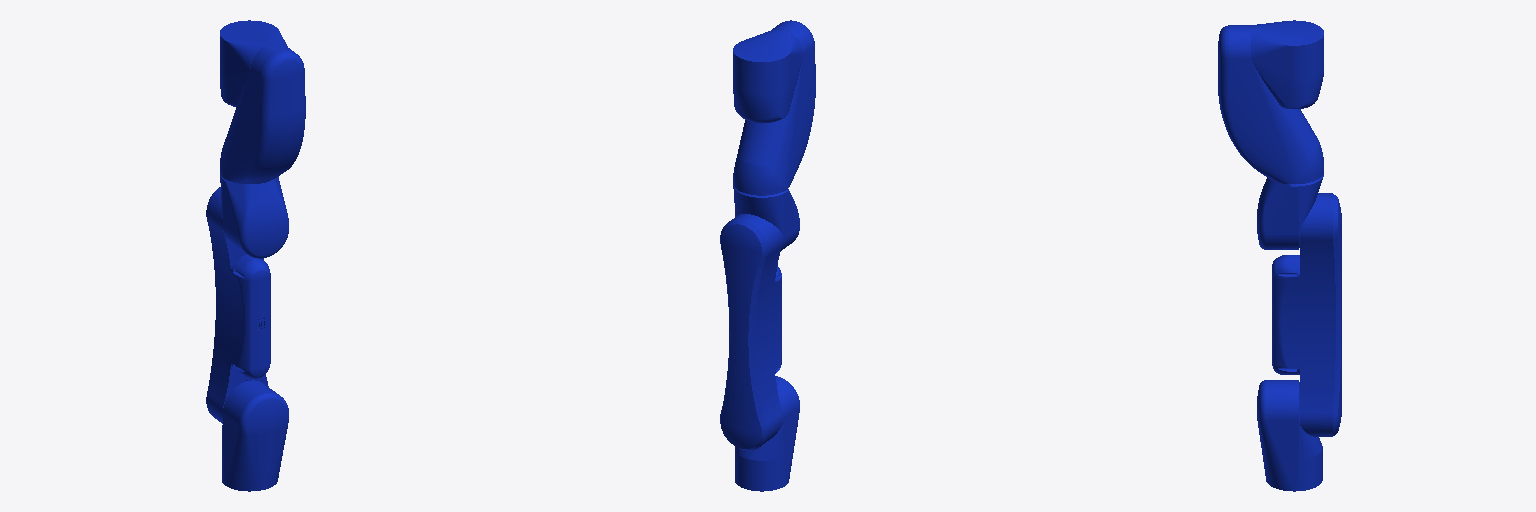
The robot description file, URDF, robot "inail2arm":
<?xml version="1.0" ?>
<!-- =================================================================================== -->
<!-- |    This document was autogenerated by xacro from [local-path]/TelePhysicalOperation/robots/src/iit-inail2arm-ros-pkg/inail2arm_urdf/urdf/inail2arm_robot.urdf.xacro | -->
<!-- |    EDITING THIS FILE BY HAND IS NOT RECOMMENDED                                 | -->
<!-- =================================================================================== -->
<robot name="inail2arm">
    <material name="grey">
        <color rgba="0.5 0.5 0.5 1" />
    </material>
    <material name="dark_grey">
        <color rgba="0.3 0.3 0.3 1" />
    </material>
    <material name="red">
        <color rgba="1.0 0.0 0.0 1" />
    </material>
    <material name="green">
        <color rgba="0.0 1.0 0.0 1" />
    </material>
    <material name="blue">
        <color rgba="0.13333333333333333 0.25882352941176473 0.7803921568627451 1.0" />
    </material>
    <!-- /macro arms -->
    <!-- /macro ee -->
    <!-- Origin -->
    <link name="world" />
    <!-- base -->
    <link name="base_link">
        <inertial>
            <origin xyz="0.00020548930000000002 -0.00062095789 0.077352002" rpy="0 0 0" />
            <mass value="2.7764953" />
            <inertia ixx="0.010002127" ixy="4.1468013999999995e-05" ixz="-5.1253649e-05" iyy="0.010728527" iyz="-0.00012700723" izz="0.006215603699999999" />
        </inertial>
        <visual>
            <origin rpy="0.0 0.0 0.0" xyz="0.0 0.0 0.0" />
            <geometry>
                <mesh filename="package://inail2arm_urdf/meshes/mesh_base.stl" scale="0.001 0.001 0.001" />
            </geometry>
            <material name="dark_grey" />
        </visual>
        <collision>
            <origin rpy="0.0 0.0 0.0" xyz="0.0 0.0 0.0" />
            <geometry>
                <mesh filename="package://inail2arm_urdf/meshes/simple/mesh_base.stl" scale="0.001 0.001 0.001" />
            </geometry>
        </collision>
    </link>
    <!-- base -->
    <joint name="base_joint" type="fixed">
        <parent link="world" />
        <child link="base_link" />
        <origin rpy="0 0 0" xyz="0 0 0" />
    </joint>
    <!-- LINKS -->
    <!-- shoulder yaw-->
    <link name="arm1_1">
        <inertial>
            <origin xyz="8.4798664e-05 -0.020782662 0.032183554999999996" rpy="0 0 0" />
            <mass value="0.41054046" />
            <inertia ixx="0.0012949444" ixy="-1.8773371e-06" ixz="1.2479427999999998e-06" iyy="0.0012303834999999998" iyz="0.00032390228999999997" izz="0.0008036788199999999" />
        </inertial>
        <visual>
            <origin rpy="0.0 0.0 0.0" xyz="0.0 0.0 0.0" />
            <geometry>
                <mesh filename="package://inail2arm_urdf/meshes/mesh_shoulder-yaw.stl" scale="0.001 0.001 0.001" />
            </geometry>
            <material name="blue" />
        </visual>
        <collision>
            <origin rpy="0.0 0.0 0.0" xyz="0.0 0.0 0.0" />
            <geometry>
                <mesh filename="package://inail2arm_urdf/meshes/simple/mesh_shoulder-yaw.stl" scale="0.001 0.001 0.001" />
            </geometry>
        </collision>
    </link>
    <!-- shoulder yaw-->
    <!-- shoulder pitch-->
    <link name="arm1_2">
        <inertial>
            <origin xyz="-3.636067e-05 0.16072685 -0.062849027" rpy="0 0 0" />
            <mass value="3.2487988" />
            <inertia ixx="0.090371217" ixy="9.791527499999999e-05" ixz="-5.558155099999999e-06" iyy="0.0065574254" iyz="-0.0029068254" izz="0.088276594" />
        </inertial>
        <visual>
            <origin rpy="0.0 0.0 0.0" xyz="0.0 0.0 0.0" />
            <geometry>
                <mesh filename="package://inail2arm_urdf/meshes/mesh_shoulder-pitch.stl" scale="0.001 0.001 0.001" />
            </geometry>
            <material name="blue" />
        </visual>
        <collision>
            <origin rpy="0.0 0.0 0.0" xyz="0.0 0.0 0.0" />
            <geometry>
                <mesh filename="package://inail2arm_urdf/meshes/simple/mesh_shoulder-pitch.stl" scale="0.001 0.001 0.001" />
            </geometry>
        </collision>
    </link>
    <!-- shoulder pitch-->
    <!-- elbow-yaw-->
    <link name="arm1_3">
        <inertial>
            <origin xyz="-1.2974906e-05 0.064319293 -0.03429615" rpy="0 0 0" />
            <mass value="0.52461209" />
            <inertia ixx="0.0015799731999999998" ixy="3.0297811e-07" ixz="4.1461879e-07" iyy="0.0010025017999999999" iyz="0.00038387214" izz="0.0014999643" />
        </inertial>
        <visual>
            <origin rpy="0.0 0.0 0.0" xyz="0.0 0.0 0.0" />
            <geometry>
                <mesh filename="package://inail2arm_urdf/meshes/mesh_elbow.stl" scale="0.001 0.001 0.001" />
            </geometry>
            <material name="blue" />
        </visual>
        <collision>
            <origin rpy="0.0 0.0 0.0" xyz="0.0 0.0 0.0" />
            <geometry>
                <mesh filename="package://inail2arm_urdf/meshes/simple/mesh_elbow.stl" scale="0.001 0.001 0.001" />
            </geometry>
        </collision>
    </link>
    <!-- elbow-yaw-->
    <!-- forearm-yaw -->
    <link name="arm1_4">
        <inertial>
            <origin xyz="-6.452875299999999e-05 -0.046448856999999996 0.13357443000000002" rpy="0 0 0" />
            <mass value="2.0046544" />
            <inertia ixx="0.023326476999999998" ixy="-1.7237335e-05" ixz="-2.9785178999999997e-05" iyy="0.02013323" iyz="0.006970601399999999" izz="0.0052212805" />
        </inertial>
        <visual>
            <origin rpy="0.0 0.0 0.0" xyz="0.0 0.0 0.0" />
            <geometry>
                <mesh filename="package://inail2arm_urdf/meshes/mesh_forearm-yaw.stl" scale="0.001 0.001 0.001" />
            </geometry>
            <material name="blue" />
        </visual>
        <collision>
            <origin rpy="0.0 0.0 0.0" xyz="0.0 0.0 0.0" />
            <geometry>
                <mesh filename="package://inail2arm_urdf/meshes/simple/mesh_forearm-yaw.stl" scale="0.001 0.001 0.001" />
            </geometry>
        </collision>
    </link>
    <!-- forearm-yaw -->
    <!--wrist-pitch -->
    <link name="arm1_5">
        <inertial>
            <origin xyz="-4.7450211e-05 0.017403047999999997 0.040478983999999996" rpy="0 0 0" />
            <mass value="1.0418416" />
            <inertia ixx="0.0018450264" ixy="-6.3813838e-07" ixz="1.6212593e-05" iyy="0.0011114155" iyz="-3.7623514e-05" izz="0.0018417393" />
        </inertial>
        <visual>
            <origin rpy="0.0 0.0 0.0" xyz="0.0 0.0 0.0" />
            <geometry>
                <mesh filename="package://inail2arm_urdf/meshes/mesh_wrist-pitch.stl" scale="0.001                0.001 0.001" />
            </geometry>
            <material name="blue" />
        </visual>
        <collision>
            <origin rpy="0.0 0.0 0.0" xyz="0.0 0.0 0.0" />
            <geometry>
                <mesh filename="package://inail2arm_urdf/meshes/simple/mesh_wrist-pitch.stl" scale="0.001                0.001 0.001" />
            </geometry>
        </collision>
    </link>
    <link name="arm1_6">
        <inertial>
            <origin xyz="0 0 0" />
            <mass value="0.001" />
            <inertia ixx="0.0001" ixy="0" ixz="0" iyy="0.0001" iyz="0" izz="0.0001" />
        </inertial>
        <!-- <visual>
            <origin xyz="0.0 0.0 0.0" rpy="0.0 0.0 0.0" />
            <geometry>
               <mesh
                  filename="package://inail2arm_urdf/meshes/mesh_wrist-pitch.stl"
                  scale="0.001
               ${rot*0.001} 0.001" />
            </geometry>
            <material name="blue" />
         </visual>

         <collision>
            <origin xyz="0.0 0.0 0.0" rpy="0.0 0.0 0.0" />
            <geometry>
               <mesh
                  filename="package://inail2arm_urdf/meshes/simple/mesh_wrist-pitch.stl"
                  scale="0.001
               ${rot*0.001} 0.001" />
            </geometry>
         </collision> -->
    </link>
    <!--wrist-pitch -->
    <!-- /LINKS -->
    <!-- JOINTS -->
    <!-- shoulder yaw -->
    <joint name="j_arm1_1" type="revolute">
        <parent link="base_link" />
        <child link="arm1_1" />
        <axis xyz="0 0 1" />
        <origin rpy="0.0 0.0 0.0" xyz="0.0 0.0 0.17515" />
        <limit effort="147.0" lower="-2.85" upper="2.85" velocity="3.86" />
    </joint>
    <!-- shoulder yaw -->
    <!-- shoulder pitch -->
    <joint name="j_arm1_2" type="revolute">
        <parent link="arm1_1" />
        <child link="arm1_2" />
        <origin rpy="1.570796326795 0.0 0.0" xyz="0.0 -0.051 0.079" />
        <axis xyz="0 0 -1" />
        <limit effort="147.0" lower="-2.0" upper="2.0" velocity="3.86" />
    </joint>
    <!-- shoulder pitch -->
    <!-- elbow yaw -->
    <joint name="j_arm1_3" type="revolute">
        <parent link="arm1_2" />
        <child link="arm1_3" />
        <origin rpy="0.0 0.0 0.0" xyz="0.0 0.365095 0.0" />
        <axis xyz="0 0 1" />
        <limit effort="147.0" lower="-2.2" upper="2.2" velocity="6.06" />
    </joint>
    <!-- elbow yaw -->
    <!-- forearm yaw -->
    <joint name="j_arm1_4" type="revolute">
        <parent link="arm1_3" />
        <child link="arm1_4" />
        <origin rpy="-1.570796326795 0.0 0.0" xyz="0.0 0.0825 -0.051" />
        <axis xyz="0 0 1" />
        <limit effort="147.0" lower="-2.7" upper="2.7" velocity="6.06" />
    </joint>
    <!-- forearm yaw -->
    <!-- wrist pitch-->
    <joint name="j_arm1_5" type="revolute">
        <parent link="arm1_4" />
        <child link="arm1_5" />
        <origin rpy="-1.570796326795 0.0 0.0" xyz="0.0 -0.043 0.2525" />
        <axis xyz="0 0 1" />
        <limit effort="55.0" lower="-2.2" upper="2.2" velocity="11.72" />
    </joint>
    <!-- wrist pitch-->
    <!-- wrist2 pitch-->
    <joint name="j_arm1_6" type="revolute">
        <parent link="arm1_5" />
        <child link="arm1_6" />
        <origin rpy="0 0.0 0.0" xyz="0.0 -0.02 0.043" />
        <axis xyz="0 1 0" />
        <limit effort="55.0" lower="-2.85" upper="2.85" velocity="11.72" />
    </joint>
    <!-- /wrist2 pitch-->
    <joint name="dagana_1_mount_joint" type="fixed">
        <origin rpy="1.570796326795 0 0" xyz="0 -0.018 0" />
        <parent link="arm1_6" />
        <child link="dagana_1_top_link" />
    </joint>
    <link name="dagana_1_top_link">
        <inertial>
            <origin rpy="0 0 0" xyz="-0.0063562154 -0.0060265532000000005  0.060068288000000004" />
            <mass value="1.7432400" />
            <inertia ixx="0.0050510328" ixy="-0.00025264216" ixz="-0.00012103013" iyy="0.0047944612" iyz="-0.00073917704" izz="0.0031156997" />
        </inertial>
        <visual>
            <origin rpy="0 0 0" xyz="0 0 0" />
            <geometry>
                <mesh filename="package://dagana_urdf/meshes/dg0001-simplified.stl" scale="0.001 0.001 0.001" />
            </geometry>
            <material name="dark_grey" />
        </visual>
        <collision>
            <origin rpy="0 0 0" xyz="0 0 0" />
            <geometry>
                <mesh filename="package://dagana_urdf/meshes/dg0001-ch.stl" scale="0.001 0.001 0.001" />
            </geometry>
            <material name="dark_grey" />
        </collision>
    </link>
    <joint name="dagana_1_claw_joint" type="fixed">
        <origin rpy="1.57079632679 0 3.14159265359" xyz="0.0 -0.028 0.05025" />
        <parent link="dagana_1_top_link" />
        <child link="dagana_1_bottom_link" />
        <axis xyz="-1 0 0" />
        <limit effort="1000" lower="0" upper="1" velocity="2.0" />
    </joint>
    <link name="dagana_1_bottom_link">
        <inertial>
            <origin rpy="0 0 0" xyz="0.069644767 0.0026548329 -0.041960263" />
            <mass value="4.6117745e-01" />
            <inertia ixx="0.0009385556899999999" ixy="-0.000264452" ixz="7.134683e-05" iyy="0.0019472731" iyz="2.529065e-06" izz="0.0014726990999999999" />
        </inertial>
        <visual>
            <origin rpy="0 0 0" xyz="0 0 0" />
            <geometry>
                <mesh filename="package://dagana_urdf/meshes/dg0002.stl" scale="0.001 0.001 0.001" />
            </geometry>
            <material name="dark_grey" />
        </visual>
        <collision>
            <origin rpy="0 0 0" xyz="0 0 0" />
            <geometry>
                <mesh filename="package://dagana_urdf/meshes/dg0002-ch.stl" scale="0.001 0.001 0.001" />
            </geometry>
            <material name="dark_grey" />
        </collision>
    </link>
    <!-- Manually put to have a transform in a "good" grasping spot-->
    <joint name="dagana_1_tcp_joint" type="fixed">
        <origin rpy="0 0 0" xyz="0 -0.05 0.15" />
        <parent link="dagana_1_top_link" />
        <child link="dagana_1_tcp" />
    </joint>
    <link name="dagana_1_tcp" />
    <!--     to have the same final link as when "none" option is used     -->
    <link name="tcp_1" />
    <joint name="j_tcp_1" type="fixed">
        <parent link="dagana_1_tcp" />
        <child link="tcp_1" />
        <origin rpy="0 0 0" xyz="0 0 0" />
    </joint>
    <gazebo reference="j_arm1_1">
        <implicitSpringDamper>1</implicitSpringDamper>
        <provideFeedback>true</provideFeedback>
        <plugin name="gazebo_ros_control">
            <robotNamespace>/</robotNamespace>
        </plugin>
    </gazebo>
    <gazebo reference="j_arm1_2">
        <implicitSpringDamper>1</implicitSpringDamper>
        <provideFeedback>true</provideFeedback>
    </gazebo>
    <gazebo reference="j_arm1_3">
        <implicitSpringDamper>1</implicitSpringDamper>
        <provideFeedback>true</provideFeedback>
    </gazebo>
    <gazebo reference="j_arm1_4">
        <implicitSpringDamper>1</implicitSpringDamper>
        <provideFeedback>true</provideFeedback>
    </gazebo>
    <gazebo reference="j_arm1_5">
        <implicitSpringDamper>1</implicitSpringDamper>
        <provideFeedback>true</provideFeedback>
    </gazebo>
    <gazebo reference="j_arm1_6">
        <implicitSpringDamper>1</implicitSpringDamper>
        <provideFeedback>true</provideFeedback>
    </gazebo>
    <gazebo>
        <plugin filename="libxbot2_gz_joint_server.so" name="xbot2_joint_driver">
            <pid>
                <gain d="5" name="lowpwr_mot" p="50" />
                <gain d="10" name="small_mot" p="1000" />
                <gain d="40" name="medium_mot" p="4000" />
                <gain d="50" name="big_mot" p="8000" />
                <pid name="j_arm1_1" profile="small_mot" />
                <pid name="j_arm1_2" profile="small_mot" />
                <pid name="j_arm1_3" profile="small_mot" />
                <pid name="j_arm1_4" profile="small_mot" />
                <pid name="j_arm1_5" profile="small_mot" />
                <pid name="j_arm1_6" profile="small_mot" />
            </pid>
        </plugin>
    </gazebo>
    <!-- **** gazebo materials **** -->
    <gazebo reference="arm1_1">
        <material>Gazebo/Blue</material>
    </gazebo>
    <gazebo reference="arm1_2">
        <material>Gazebo/DarkGrey</material>
    </gazebo>
    <gazebo reference="arm1_3">
        <material>Gazebo/Blue</material>
    </gazebo>
    <gazebo reference="arm1_4">
        <material>Gazebo/Blue</material>
    </gazebo>
    <gazebo reference="arm1_5">
        <material>Gazebo/Blue</material>
    </gazebo>
    <gazebo reference="arm1_6">
        <material>Gazebo/Blue</material>
    </gazebo>
    <gazebo reference="dagana_1_top_link">
        <material>Gazebo/BlackTransparent</material>
    </gazebo>
    <gazebo reference="dagana_1_bottom_link">
        <material>Gazebo/BlackTransparent</material>
    </gazebo>
    <transmission name="trans_j_arm1_1">
        <type>transmission_interface/SimpleTransmission</type>
        <joint name="j_arm1_1">
            <hardwareInterface>hardware_interface/EffortJointInterface</hardwareInterface>
        </joint>
        <actuator name="j_arm1_1_motor">
            <hardwareInterface>hardware_interface/EffortJointInterface</hardwareInterface>
            <mechanicalReduction>1</mechanicalReduction>
        </actuator>
    </transmission>
    <transmission name="trans_j_arm1_2">
        <type>transmission_interface/SimpleTransmission</type>
        <joint name="j_arm1_2">
            <hardwareInterface>hardware_interface/EffortJointInterface</hardwareInterface>
        </joint>
        <actuator name="j_arm1_2_motor">
            <hardwareInterface>hardware_interface/EffortJointInterface</hardwareInterface>
            <mechanicalReduction>1</mechanicalReduction>
        </actuator>
    </transmission>
    <transmission name="trans_j_arm1_3">
        <type>transmission_interface/SimpleTransmission</type>
        <joint name="j_arm1_3">
            <hardwareInterface>hardware_interface/EffortJointInterface</hardwareInterface>
        </joint>
        <actuator name="j_arm1_3_motor">
            <hardwareInterface>hardware_interface/EffortJointInterface</hardwareInterface>
            <mechanicalReduction>1</mechanicalReduction>
        </actuator>
    </transmission>
    <transmission name="trans_j_arm1_4">
        <type>transmission_interface/SimpleTransmission</type>
        <joint name="j_arm1_4">
            <hardwareInterface>hardware_interface/EffortJointInterface</hardwareInterface>
        </joint>
        <actuator name="j_arm1_4_motor">
            <hardwareInterface>hardware_interface/EffortJointInterface</hardwareInterface>
            <mechanicalReduction>1</mechanicalReduction>
        </actuator>
    </transmission>
    <transmission name="trans_j_arm1_5">
        <type>transmission_interface/SimpleTransmission</type>
        <joint name="j_arm1_5">
            <hardwareInterface>hardware_interface/EffortJointInterface</hardwareInterface>
        </joint>
        <actuator name="j_arm1_5_motor">
            <hardwareInterface>hardware_interface/EffortJointInterface</hardwareInterface>
            <mechanicalReduction>1</mechanicalReduction>
        </actuator>
    </transmission>
    <transmission name="trans_j_arm1_6">
        <type>transmission_interface/SimpleTransmission</type>
        <joint name="j_arm1_6">
            <hardwareInterface>hardware_interface/EffortJointInterface</hardwareInterface>
        </joint>
        <actuator name="j_arm1_6_motor">
            <hardwareInterface>hardware_interface/EffortJointInterface</hardwareInterface>
            <mechanicalReduction>1</mechanicalReduction>
        </actuator>
    </transmission>
</robot>

--- Render facts (derived) ---
Views: 3 orthographic renders of the robot side by side, from view 1: azimuth 30°, elevation 25°; view 2: azimuth 150°, elevation 25°; view 3: azimuth 270°, elevation 25°.
Robot: inail2arm — 12 links, 11 joints (6 revolute, 5 fixed); root link world; default pose: all joints at 0.
Visible links, largest first — view 1: arm1_2, arm1_4, arm1_1, arm1_3, arm1_5; view 2: arm1_2, arm1_4, arm1_5, arm1_1, arm1_3; view 3: arm1_2, arm1_4, arm1_1, arm1_5, arm1_3.
Link boxes in pixels (x1,y1,x2,y2): arm1_2: (206, 187, 270, 423); arm1_4: (220, 43, 305, 183); arm1_1: (222, 380, 288, 491); arm1_3: (220, 174, 288, 258); arm1_5: (220, 20, 287, 106); arm1_2: (720, 214, 782, 450); arm1_4: (733, 20, 815, 195); arm1_5: (733, 29, 802, 123); arm1_1: (735, 376, 799, 491); arm1_3: (733, 185, 799, 250); arm1_2: (1272, 193, 1341, 436); arm1_4: (1218, 25, 1323, 183); arm1_1: (1257, 380, 1322, 491); arm1_5: (1251, 20, 1323, 108); arm1_3: (1257, 175, 1323, 249).
Size in the robot's own frame: 0.106 by 0.2192 by 0.8812 metres.
Meshes: 8 distinct files referenced, 5 mesh visuals loaded (5 binary STL); not drawn: 3 (reference not matched to a file when rendering).